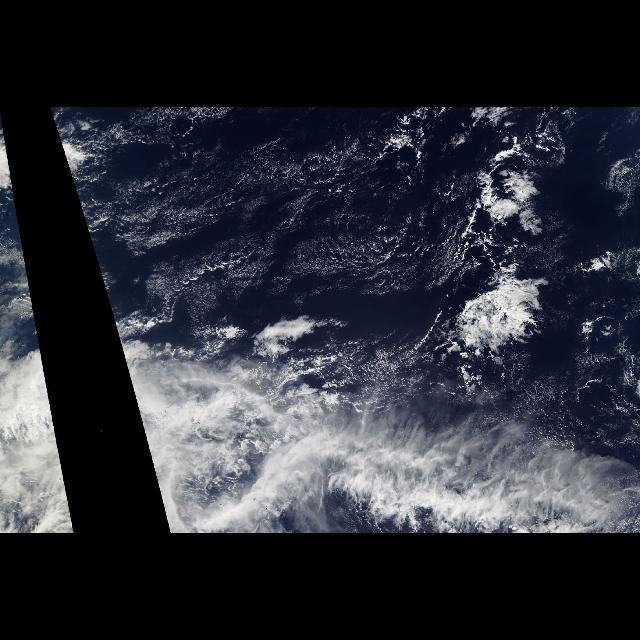Flower: (406, 274, 568, 370), (456, 132, 572, 244)
Sugar: (102, 136, 468, 324), (590, 139, 640, 227)
